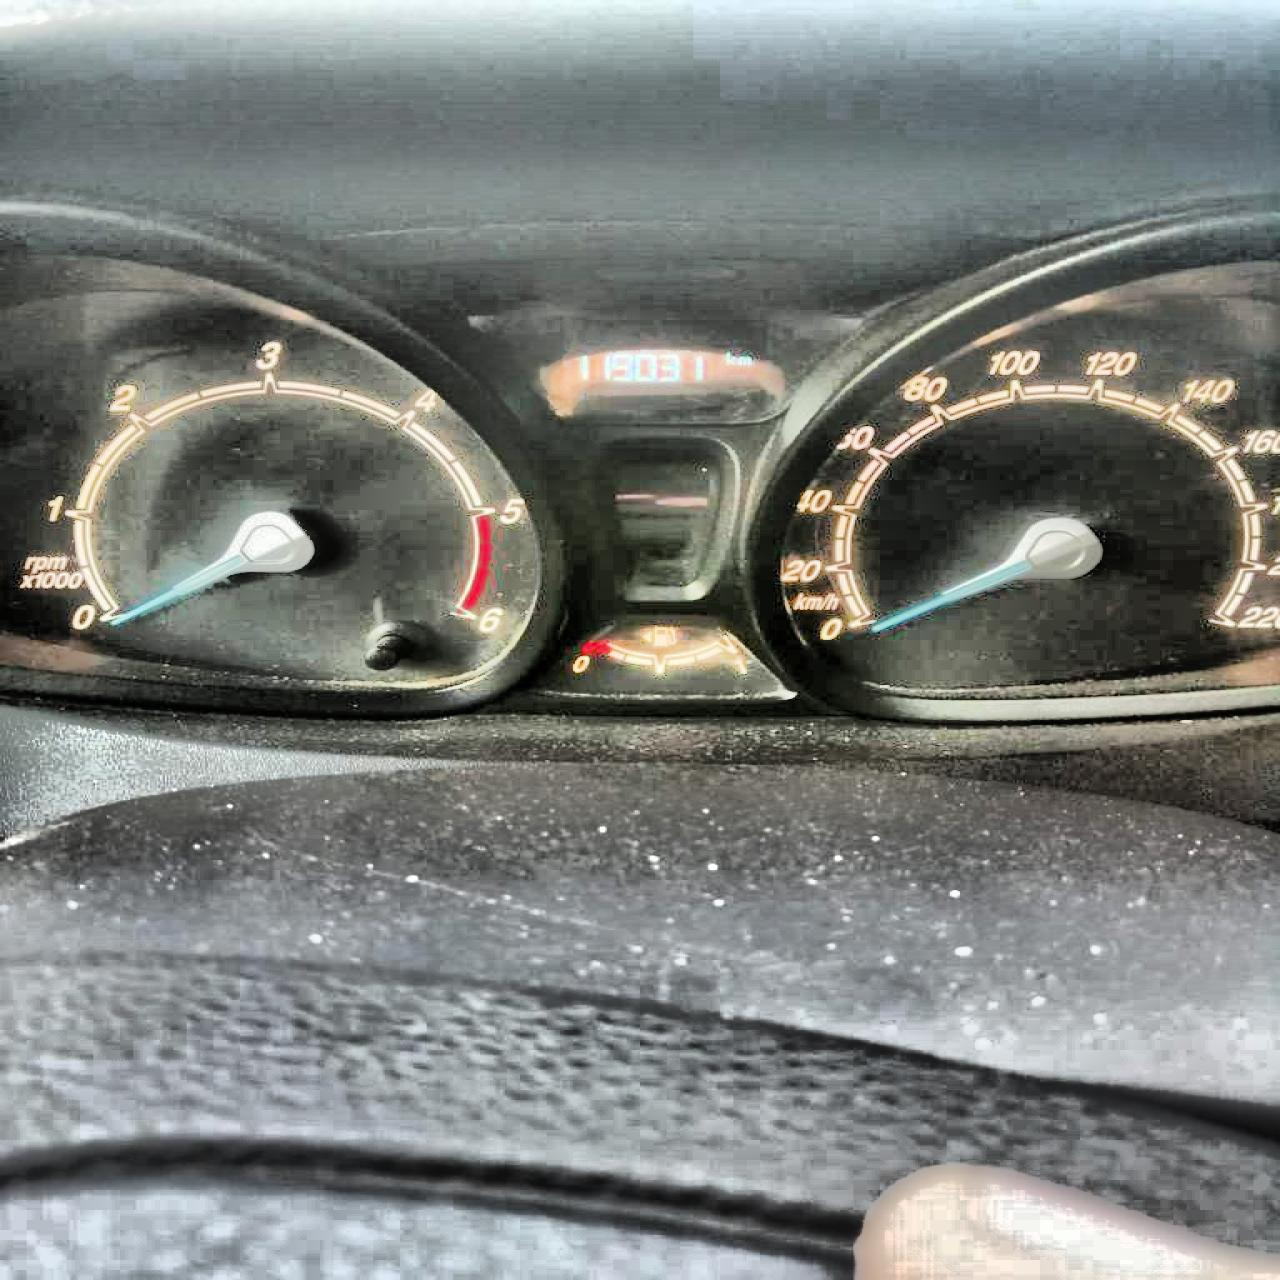0: (633, 352, 655, 380)
1: (693, 352, 707, 382), (578, 352, 588, 382), (603, 354, 610, 378)
3: (657, 352, 678, 382)
9: (610, 352, 632, 380)
X: (723, 349, 737, 365), (736, 354, 752, 366)
odometer: (556, 320, 766, 411)
